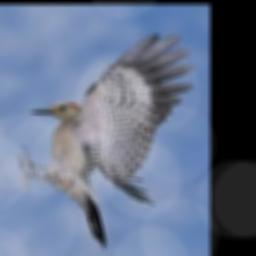Woodpecker: (17, 35, 194, 249)
